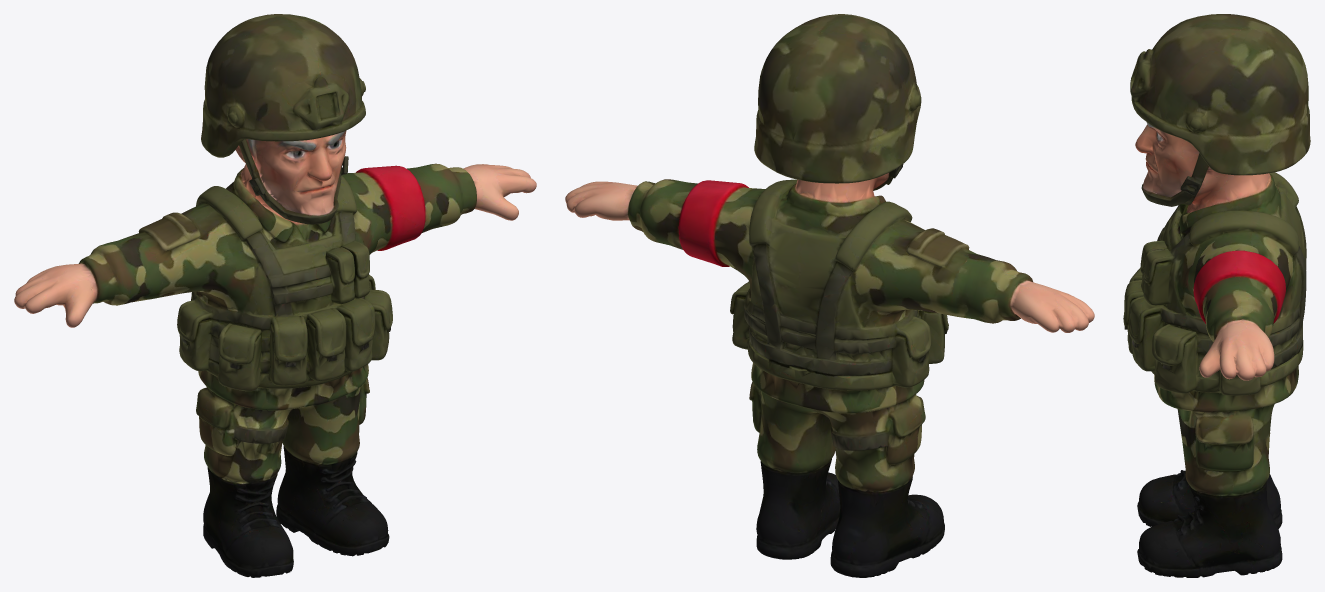
File: a3D-soldado.glb
The picture shows the model from 3 angles, left to right: view 1: azimuth 30°, elevation 25°; view 2: azimuth 150°, elevation 25°; view 3: azimuth 270°, elevation 25°; orthographic projection.
Parts seen in each view (by area): view 1: geometry_0; view 2: geometry_0; view 3: geometry_0.
Part boxes in pixels (left/top/right/bottom): geometry_0: left=14, top=14, right=536, bottom=577; geometry_0: left=565, top=14, right=1094, bottom=577; geometry_0: left=1123, top=14, right=1310, bottom=577.
Size of the model in its own units: 1.9 by 1.83 by 0.593.
1 material, 1 textured.
